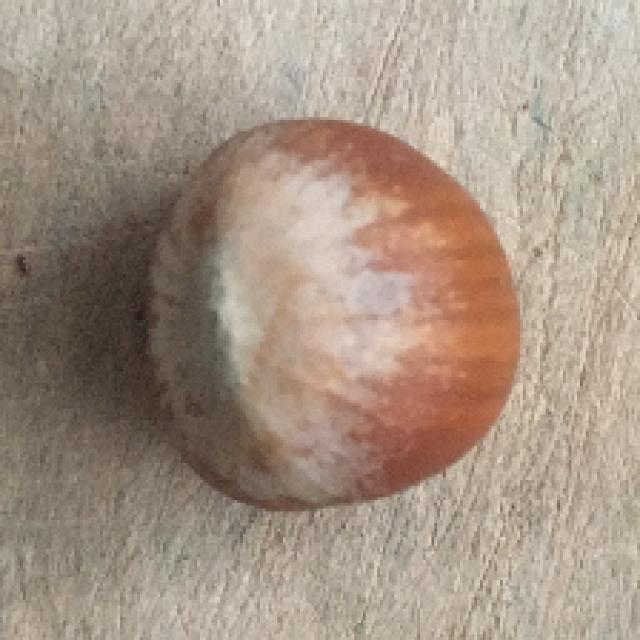qualityHazelnut: (128, 113, 518, 515)
